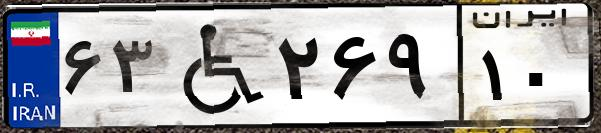0: (525, 38, 570, 115)
1: (475, 38, 525, 113)
2: (270, 28, 330, 110)
3: (110, 28, 158, 98)
6: (330, 28, 385, 110), (57, 26, 110, 100)
9: (385, 28, 445, 110)
ژ (معلولین و جانبازان): (158, 12, 270, 120)
